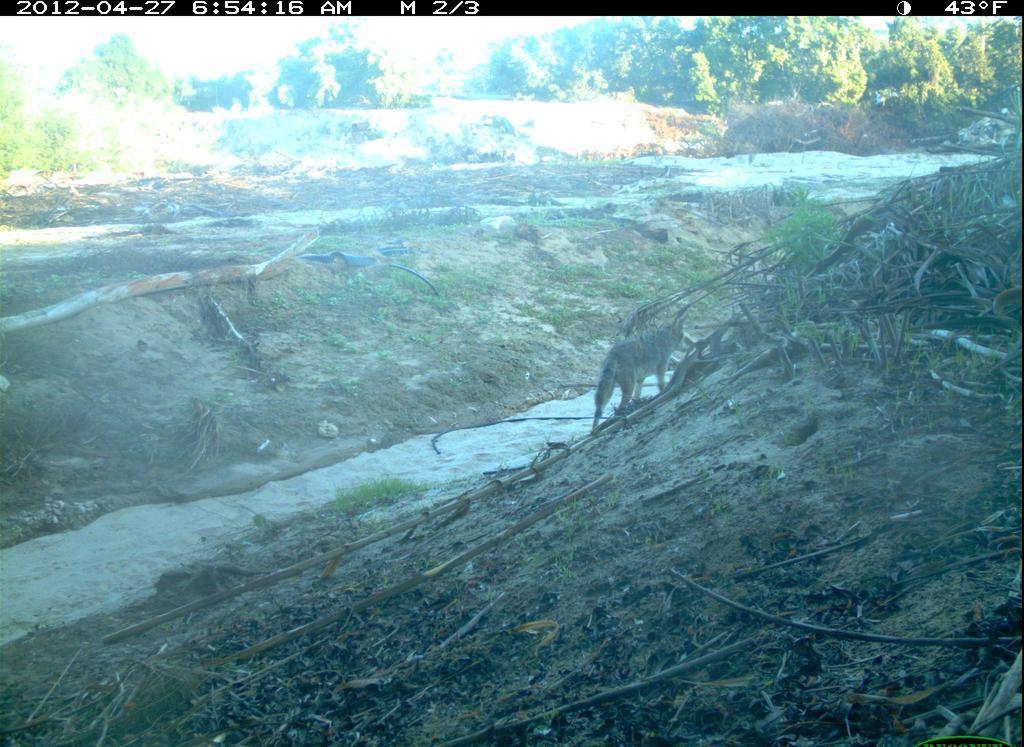coyote: (588, 309, 692, 436)
